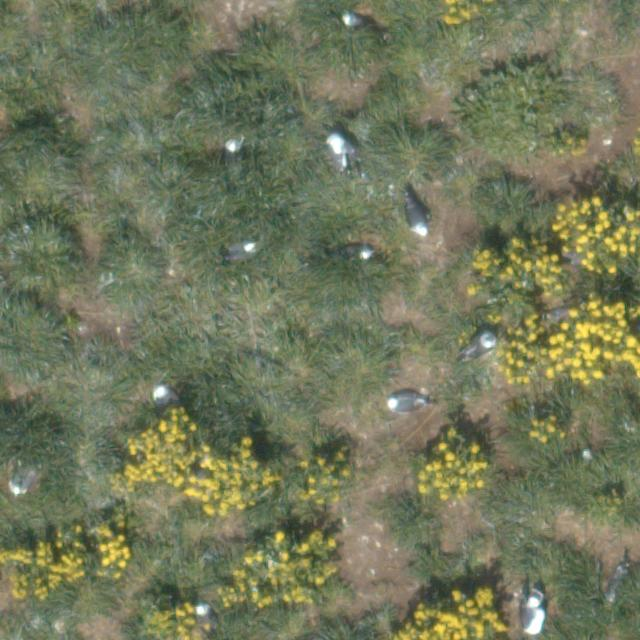umineko: (326, 130, 364, 177), (407, 204, 427, 236), (466, 335, 494, 356), (390, 394, 419, 412), (528, 600, 544, 632), (15, 470, 35, 493), (196, 606, 214, 627), (156, 387, 177, 405), (342, 245, 370, 258), (343, 14, 367, 28), (228, 242, 250, 257)
